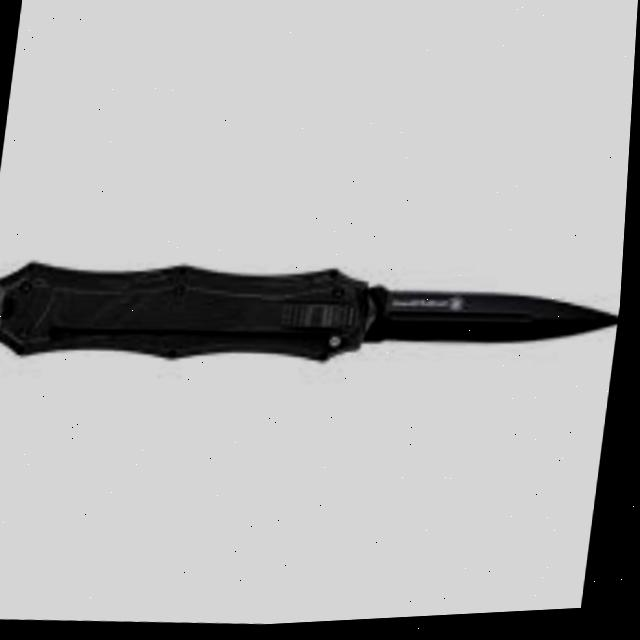Knife: (0, 231, 628, 400)
